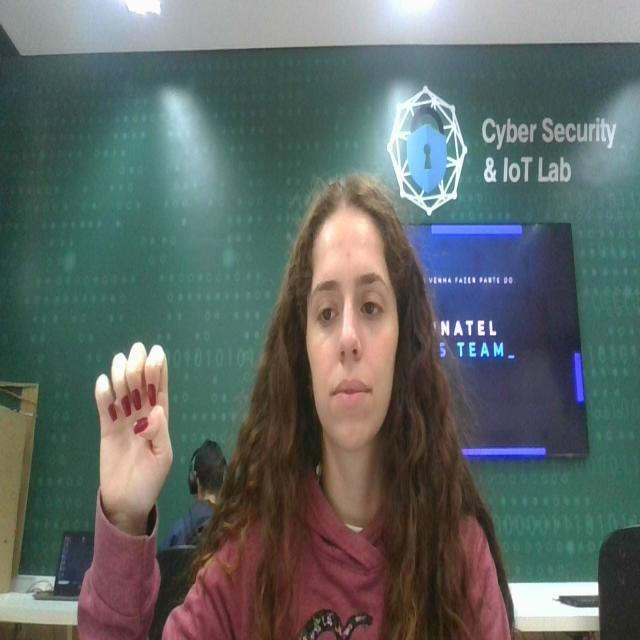E: (90, 326, 182, 524)
